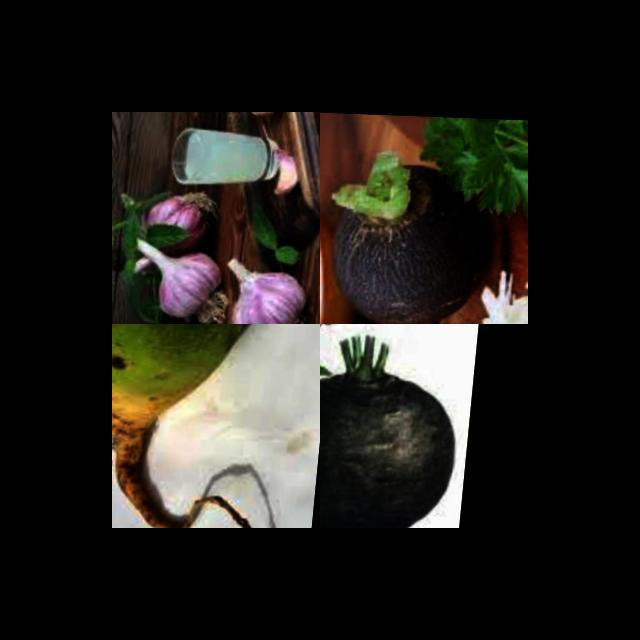garlic: (124, 230, 234, 323), (134, 184, 225, 274), (225, 253, 320, 324), (267, 148, 312, 208)
